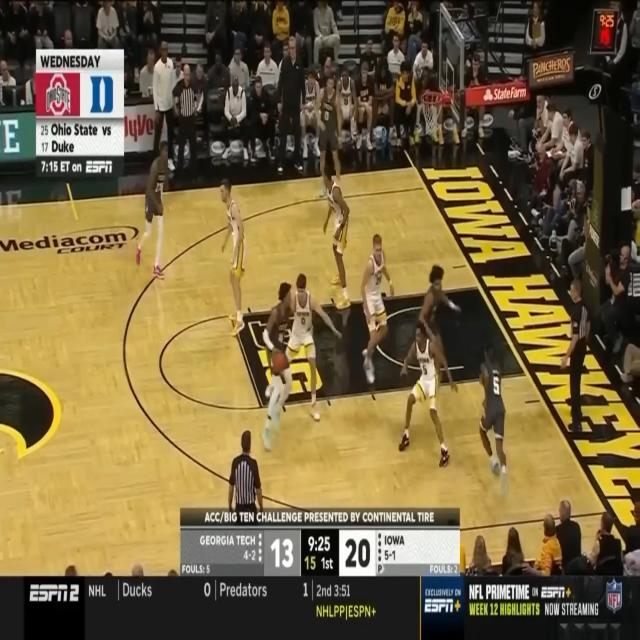Ball: (272, 351, 286, 374)
Hoop: (421, 90, 444, 137)
Period: (322, 555, 334, 571)
Player: (265, 272, 341, 422), (397, 324, 458, 469), (262, 281, 296, 454), (360, 232, 394, 386), (477, 343, 510, 498), (418, 262, 462, 378), (134, 141, 169, 279), (218, 176, 247, 336), (322, 168, 352, 310), (315, 70, 342, 196)
Ref: (560, 278, 590, 434), (171, 65, 202, 188), (227, 429, 264, 511)
Shot Clock: (306, 555, 314, 570)
Team Name: (199, 534, 256, 547), (384, 533, 406, 547)
Team Points: (345, 536, 370, 570), (270, 538, 294, 570)
Time Remaining: (307, 534, 331, 553)
